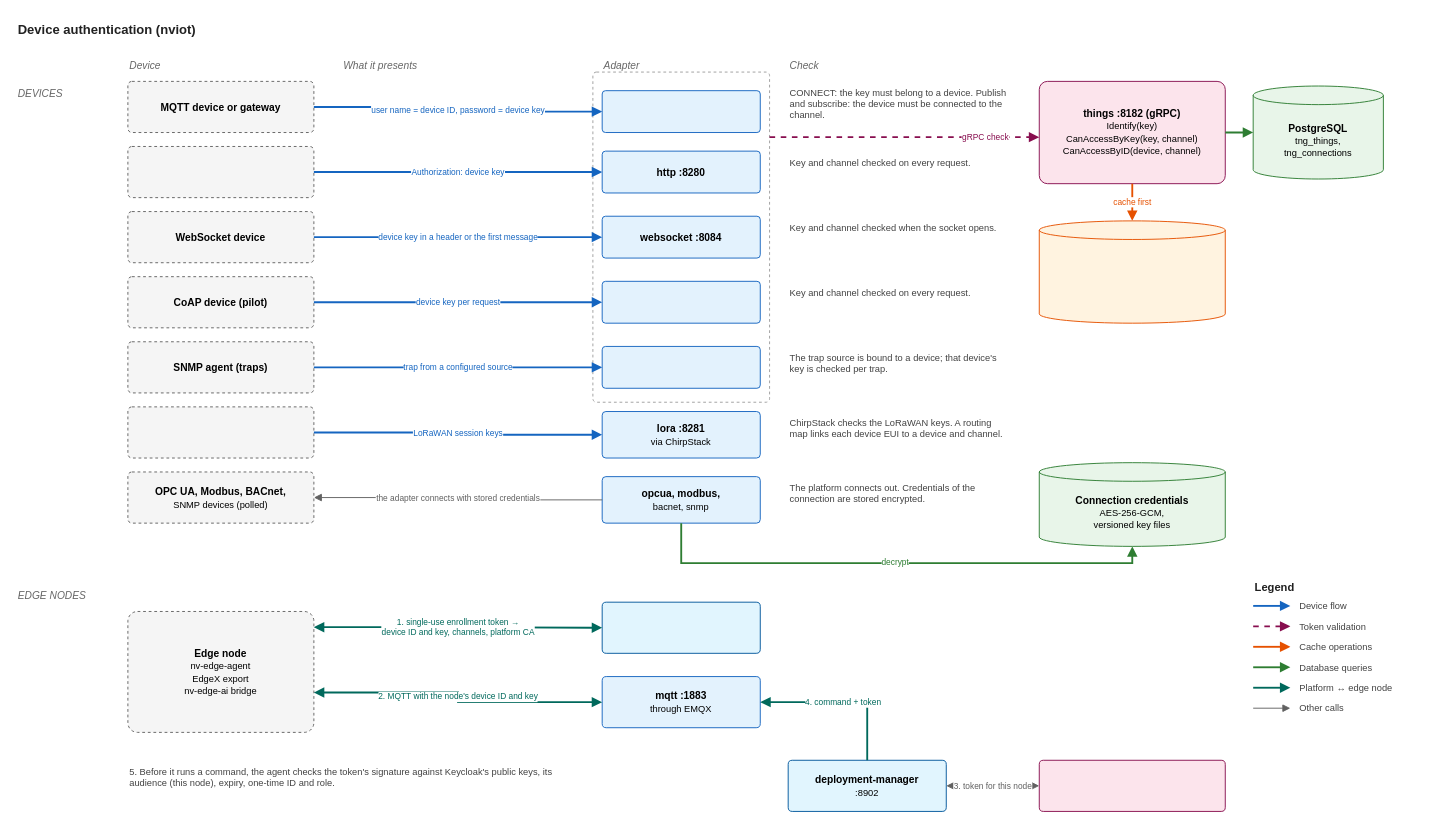
The diagram is 1453 pixels wide and 828 high, and some of its shapes have lost their labels. Here are the shapes that lost their labels. From the top down, the centre of each, then its label:
At [680,111]: "mqtt :1883".
At [220,172]: "HTTP device".
At [1131,271]: "Redis cache thing_key:<key> → device, owner, realm; channel:<id> → its devices".
At [680,301]: "coap :5683".
At [680,366]: "snmp :8189 (traps)".
At [220,432]: "LoRaWAN sensor".
At [680,627]: "provisioning :8904 /v1/provisioning/enroll".
At [1131,785]: "Keycloak signs the node token (RS256)".
